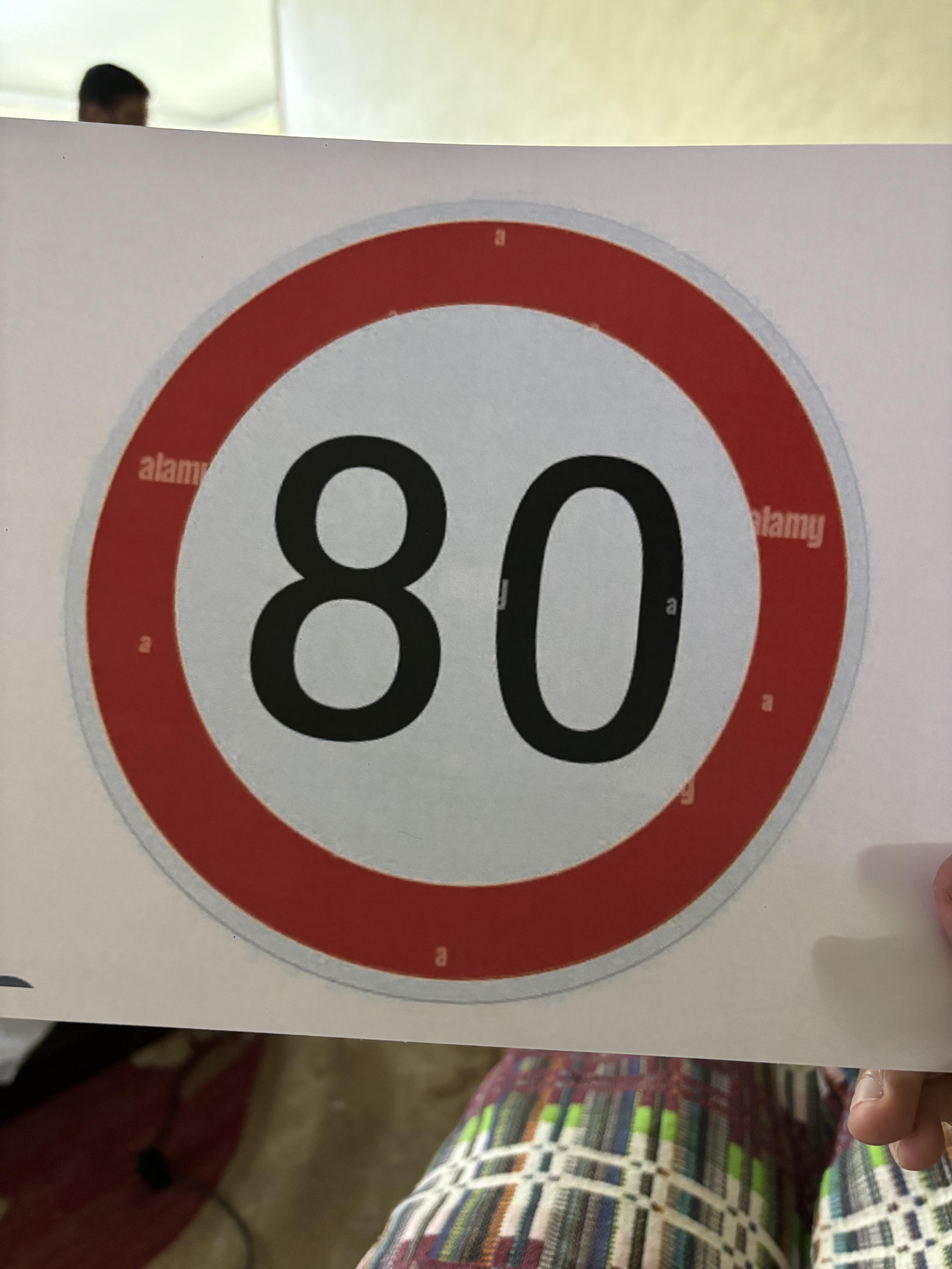80-Speed: (56, 189, 875, 1018)
